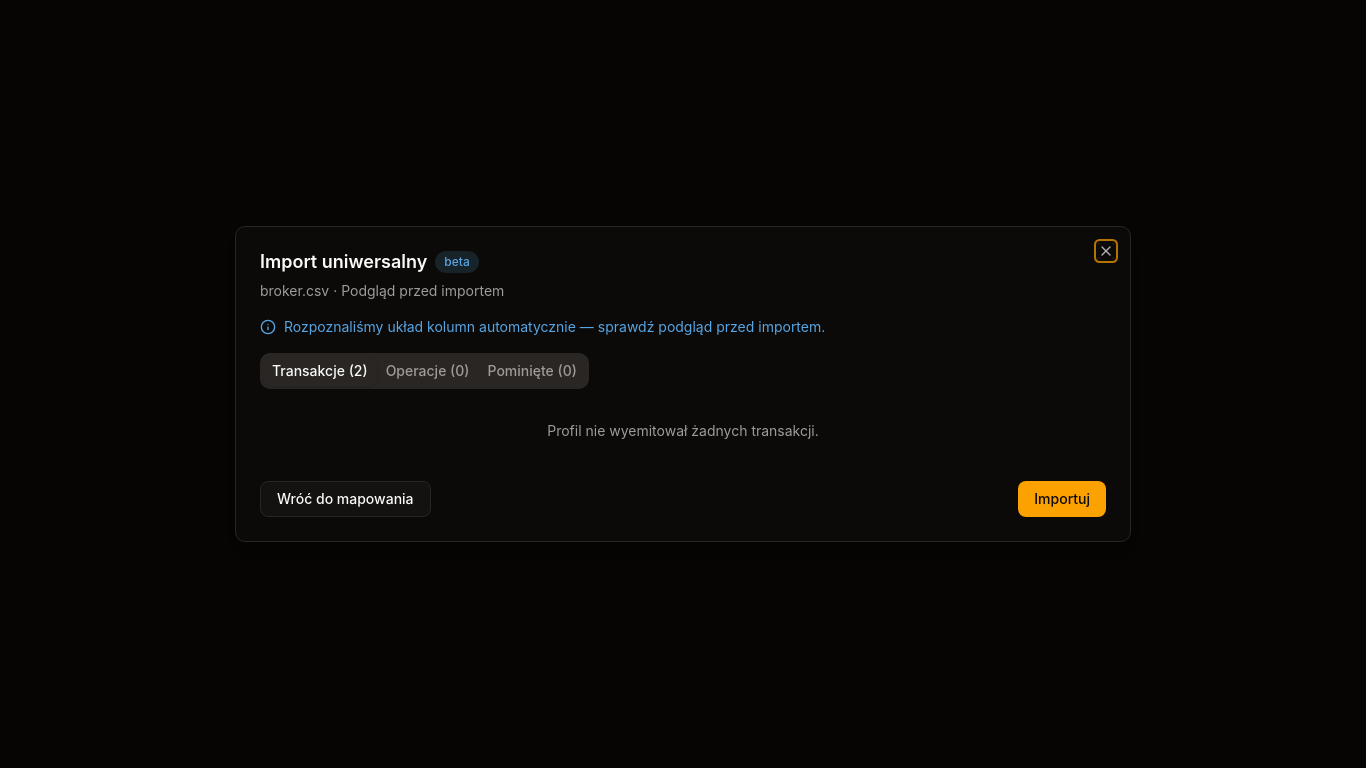
Scenario: GenericImportWizard — gałęzie progresywnego mapowania › „Wróć do mapowania" wczytuje rozpoznane mapowanie do edytora (reverse-map)
Click the button "Wróć do mapowania" at {"x": 345, "y": 499}, box left=260, top=481, right=430, bottom=517
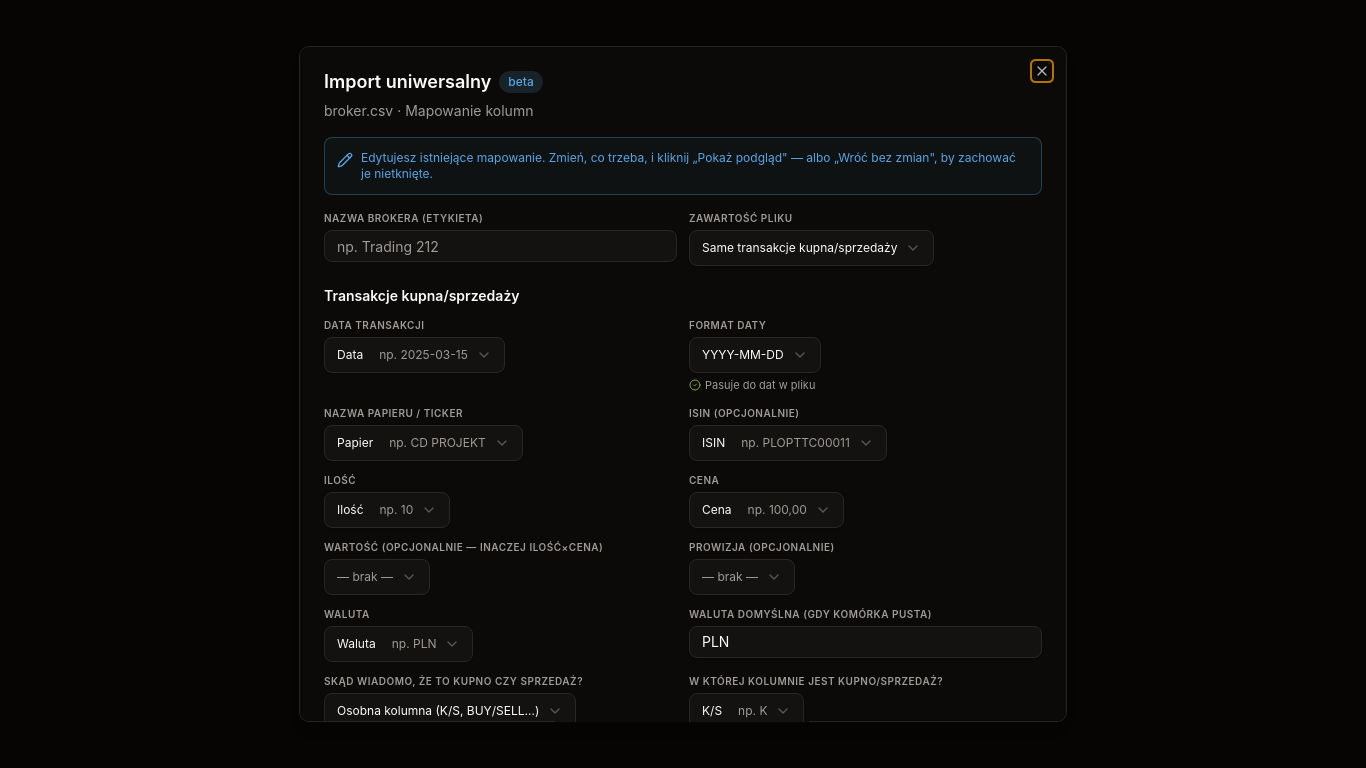
Expected: the text "Edytujesz istniejące mapowanie" is shown, left=361, top=150, right=1016, bottom=181
Expected: the text "Nazwa brokera (etykieta)" is shown, left=324, top=212, right=483, bottom=224
